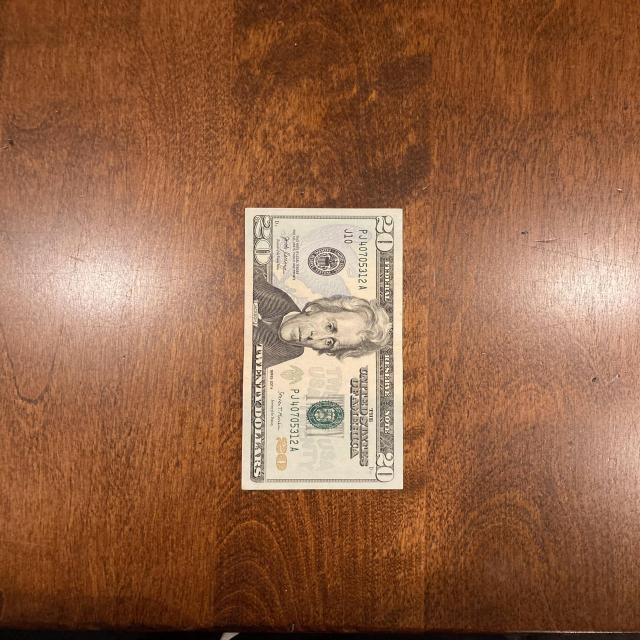twenty: (241, 207, 405, 491)
